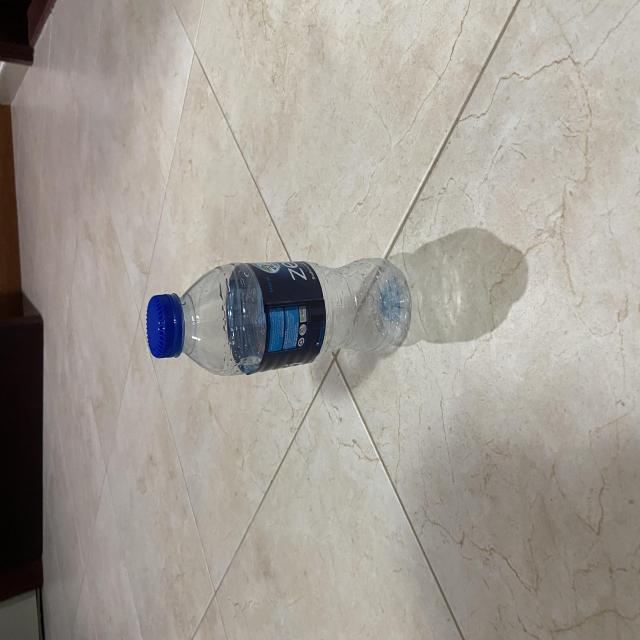plastic: (144, 253, 416, 372)
